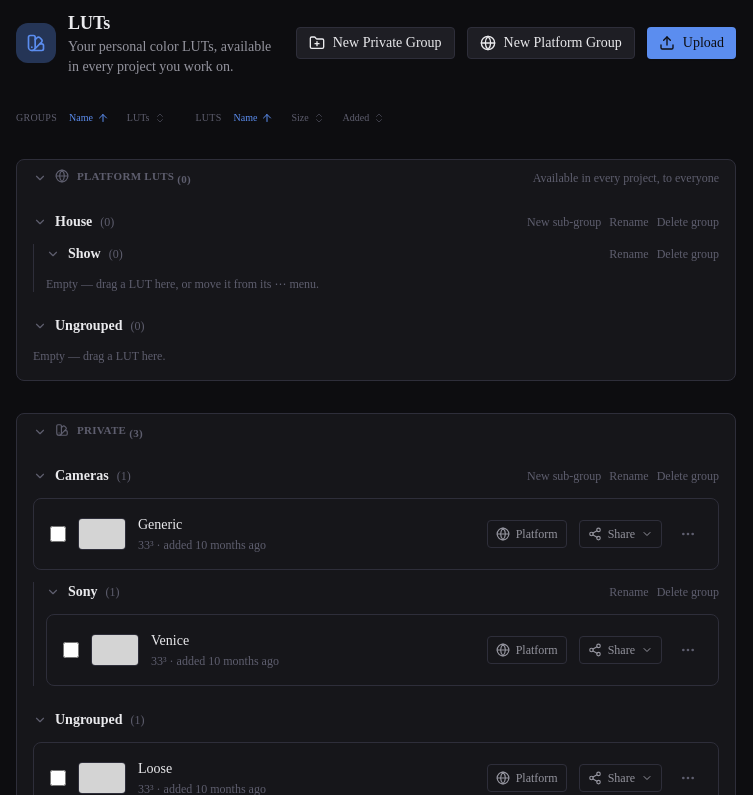
Test: rendering › gives a sub-group its own collapse
Click the button "Sony (1)": (83, 592) 46,582 -> 120,602
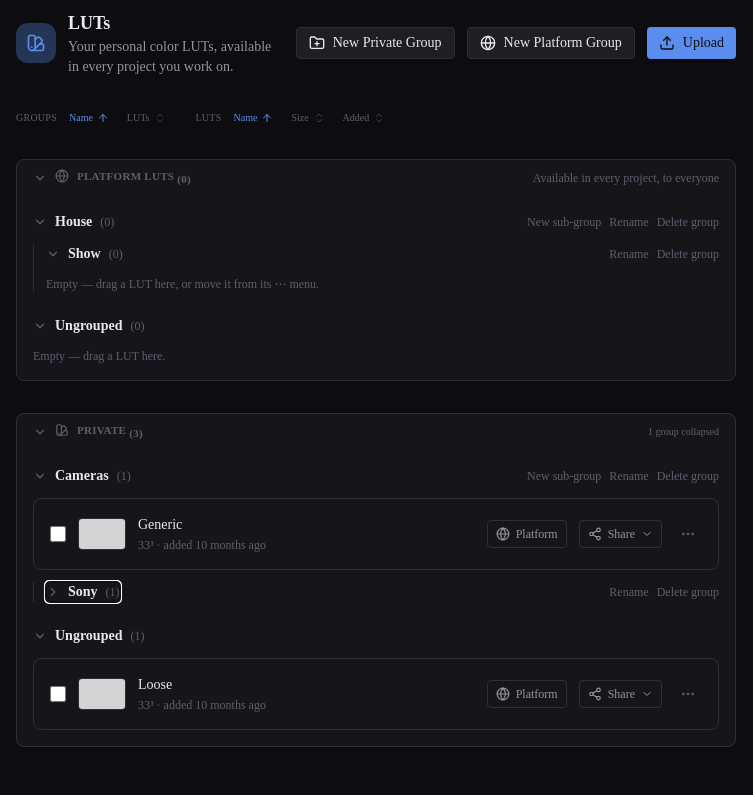
Expected: the heading "Generic" is shown, 138,514 -> 182,534
Expected: the heading "Venice" is gone
